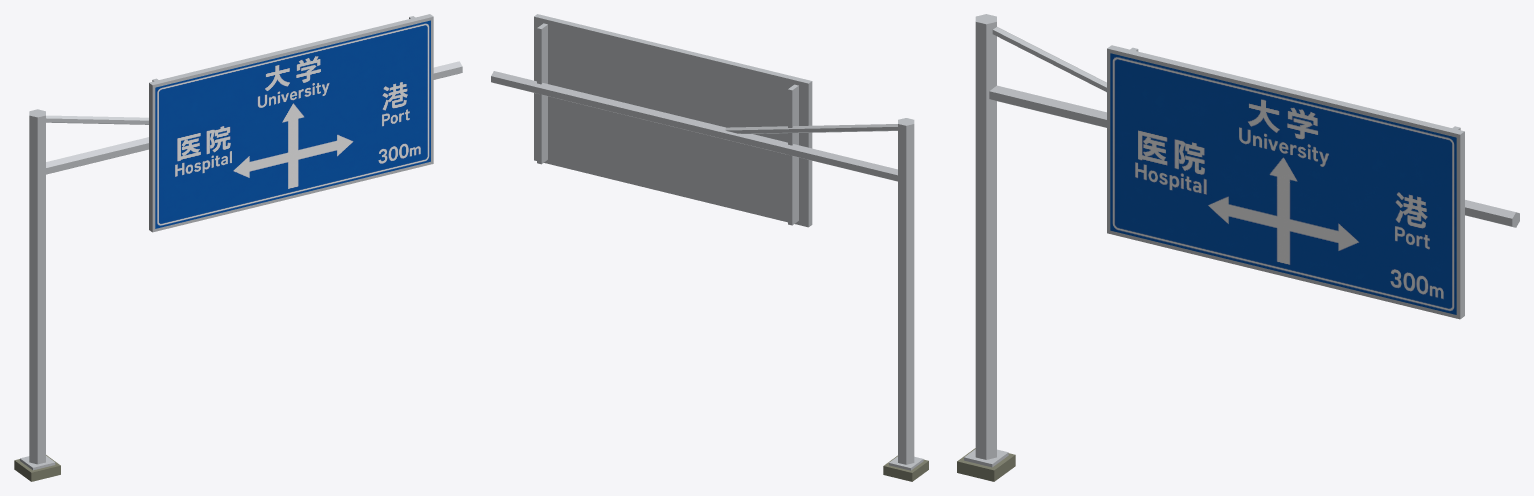
3 renders of one model, left to right at view 1: azimuth 30°, elevation 25°; view 2: azimuth 150°, elevation 25°; view 3: azimuth 330°, elevation 25°, orthographic. The views are drawn at different scales.
Visible parts, largest first — view 1: RoadSign_122; view 2: RoadSign_122; view 3: RoadSign_122.
Part boxes in pixels (x1=…): RoadSign_122: x1=14, y1=14, x2=462, y2=481; RoadSign_122: x1=491, y1=14, x2=928, y2=481; RoadSign_122: x1=957, y1=14, x2=1519, y2=481.
Bounding box in the file's own units: 12.42 × 10 × 0.886.
3 materials, 1 textured.
